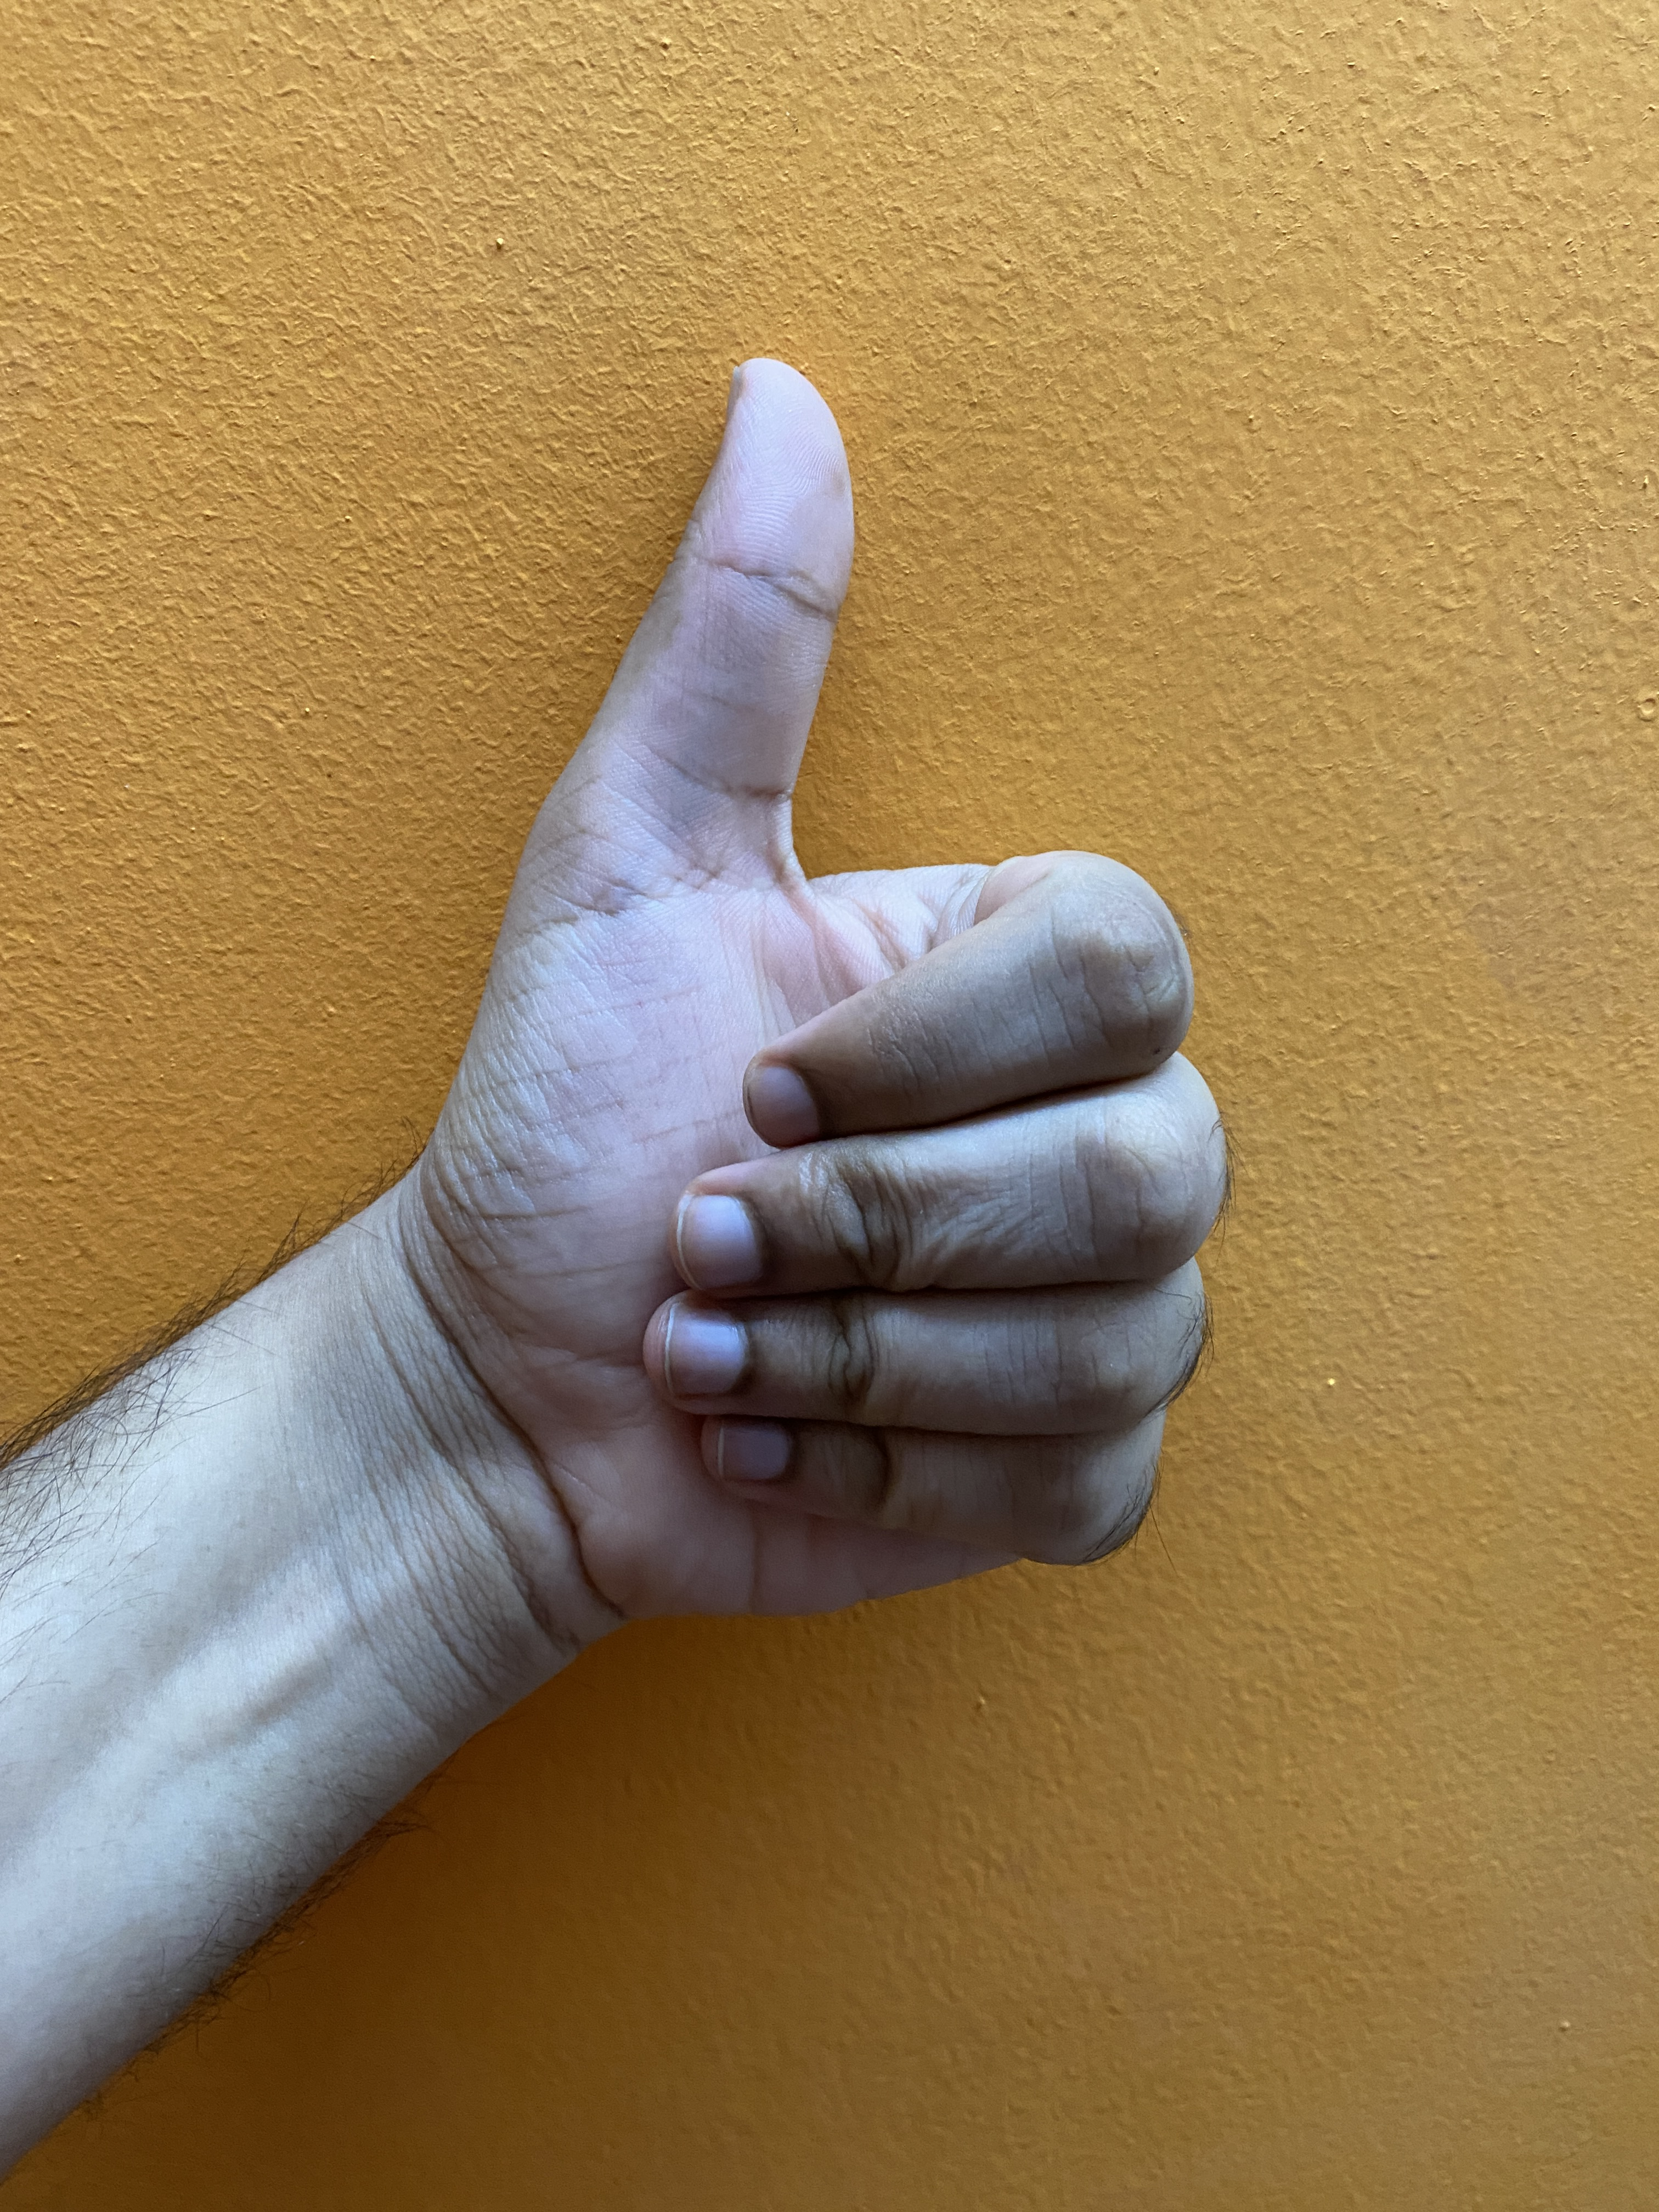up: (162, 237, 1622, 1848)
